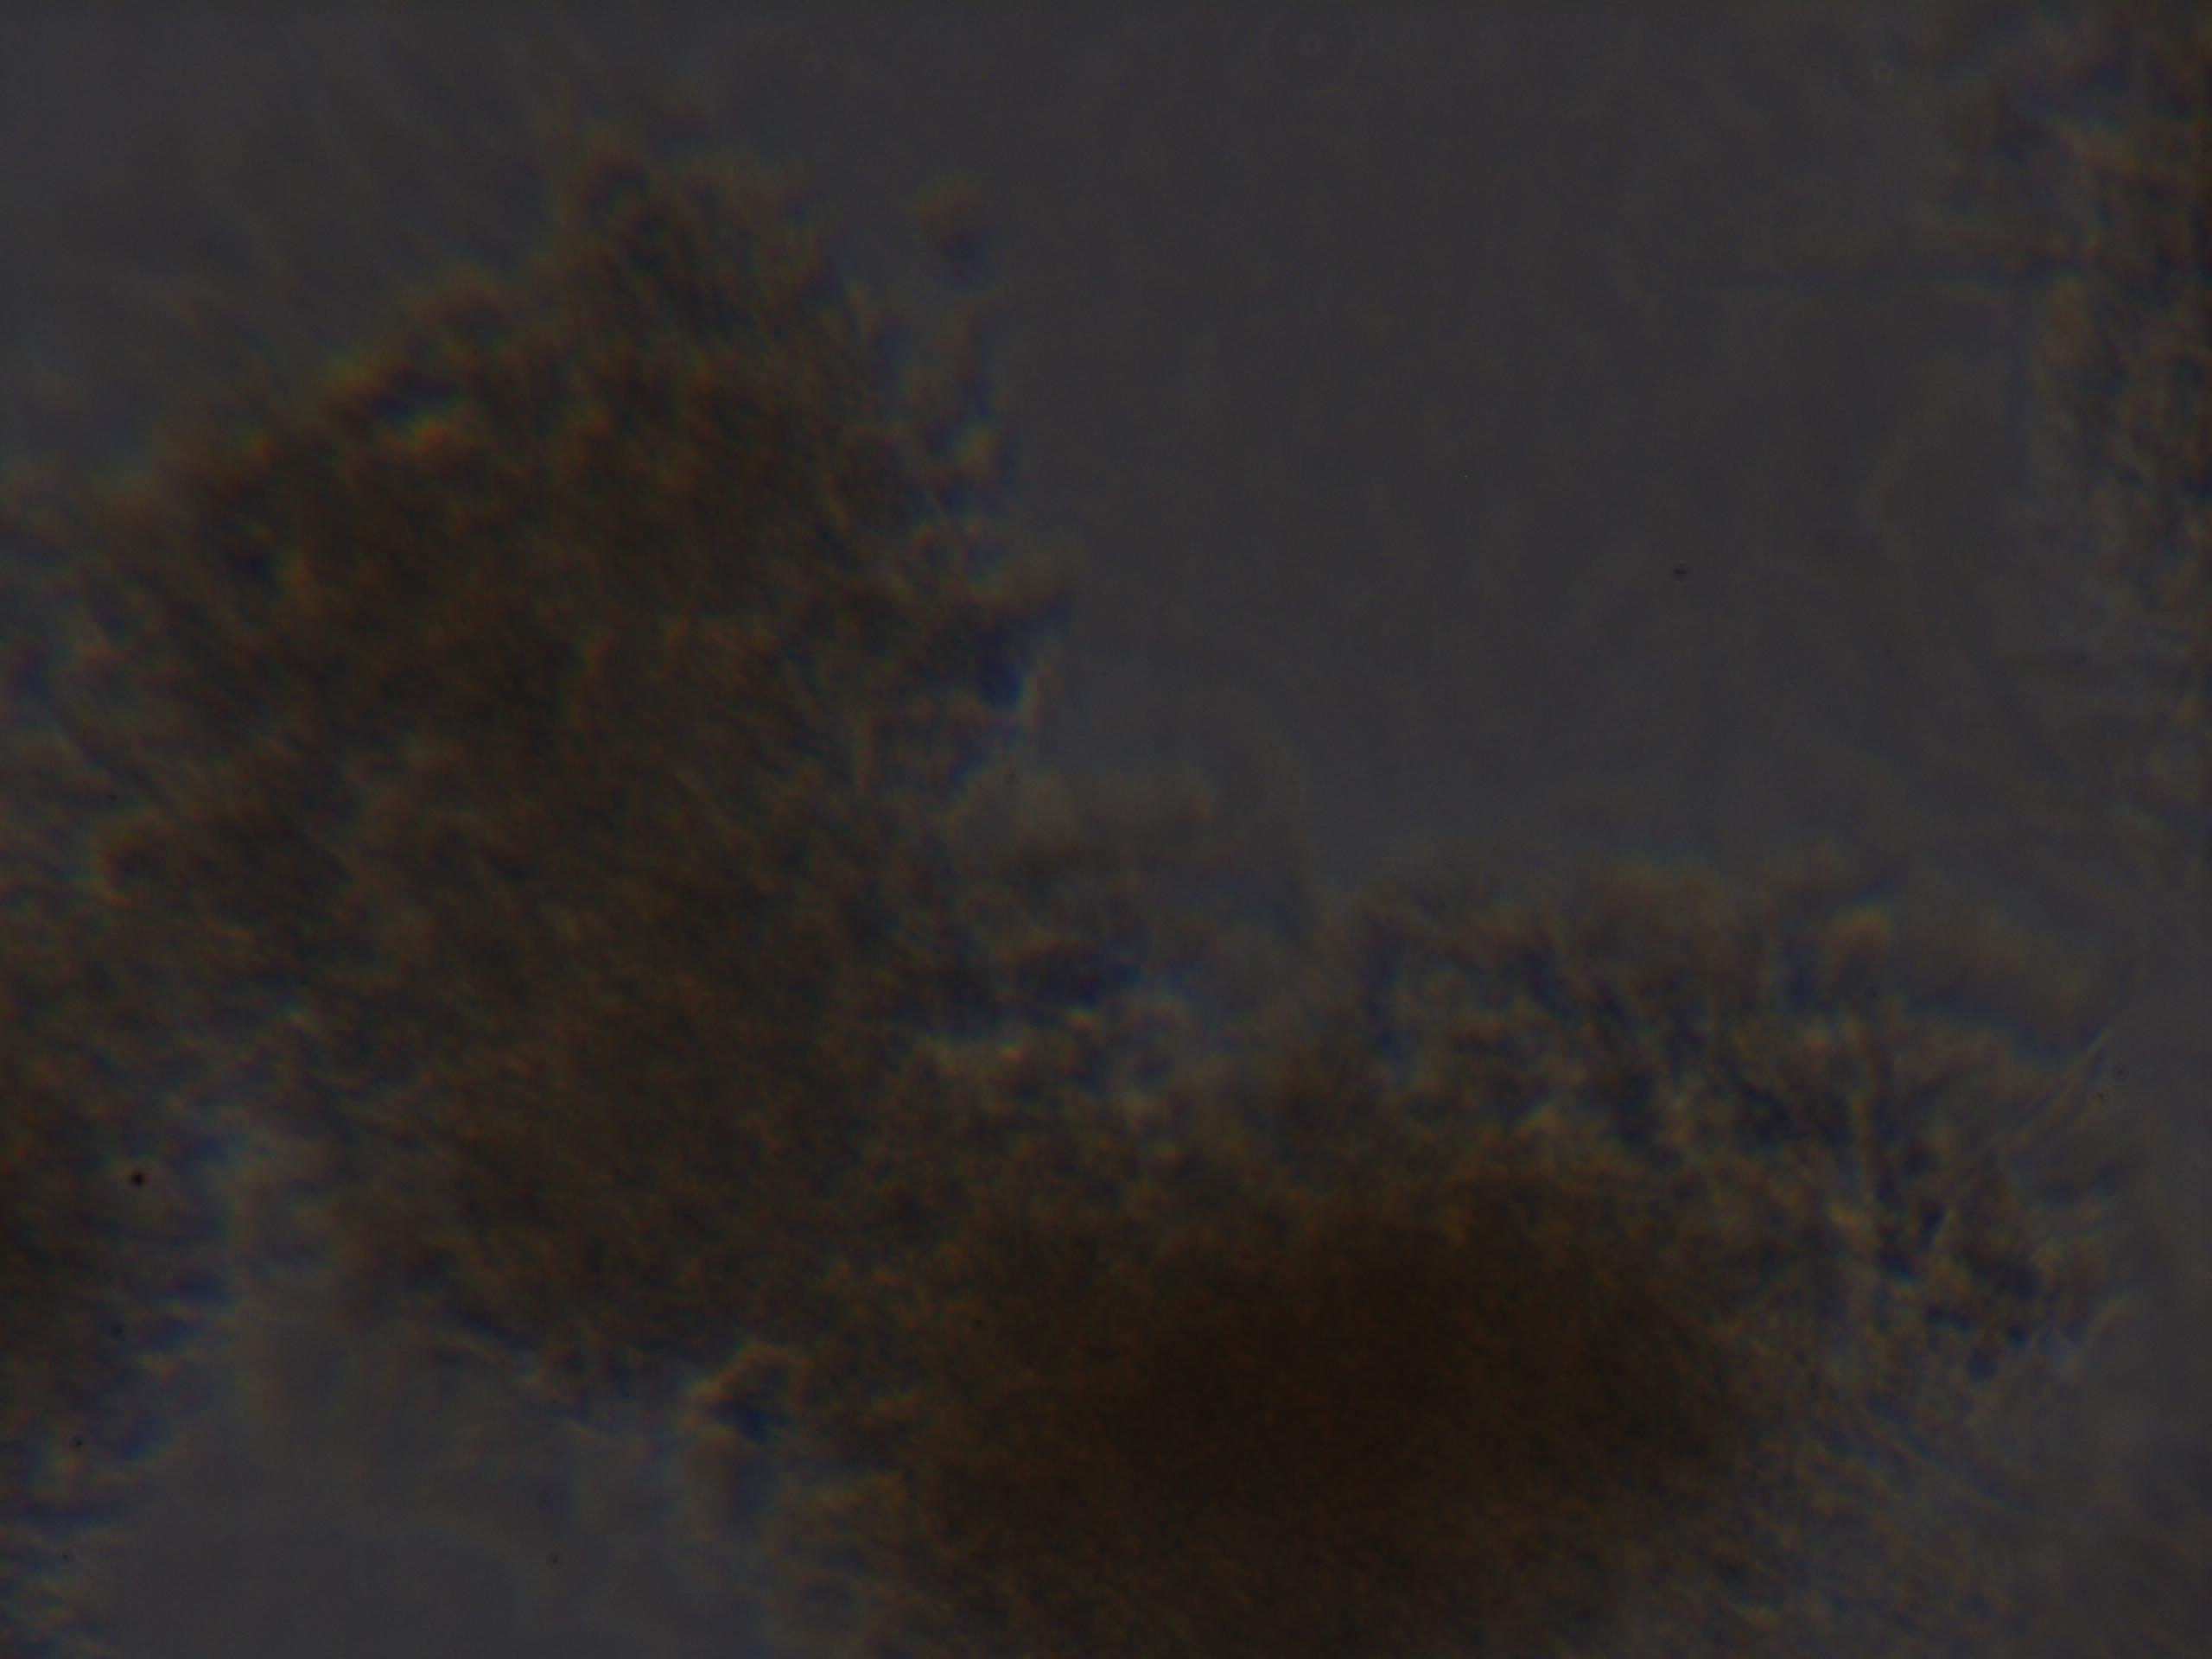spherical_floc: (84, 179, 1846, 1650)
